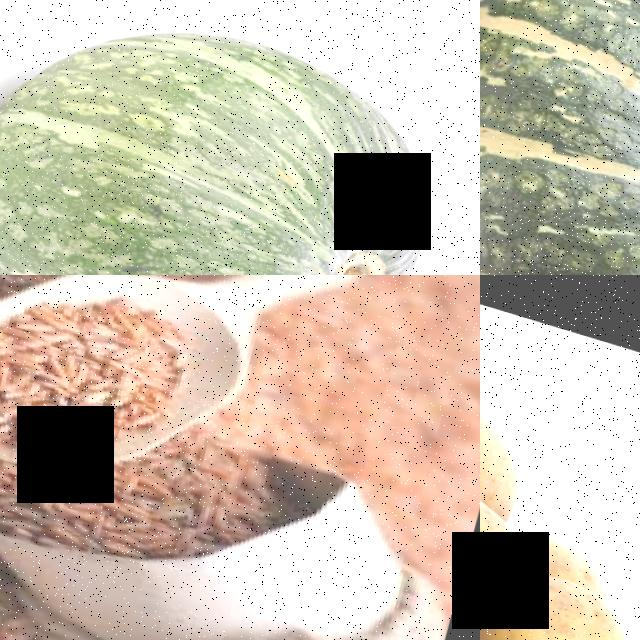potato: (480, 553, 640, 640), (480, 362, 536, 503), (480, 467, 531, 576)
pumpkin: (0, 0, 472, 275), (480, 0, 640, 275)
red rice: (0, 275, 188, 468)
